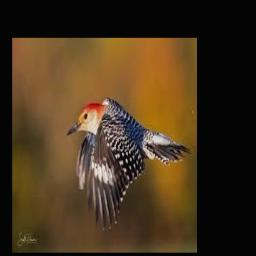Woodpecker: (66, 97, 191, 230)
